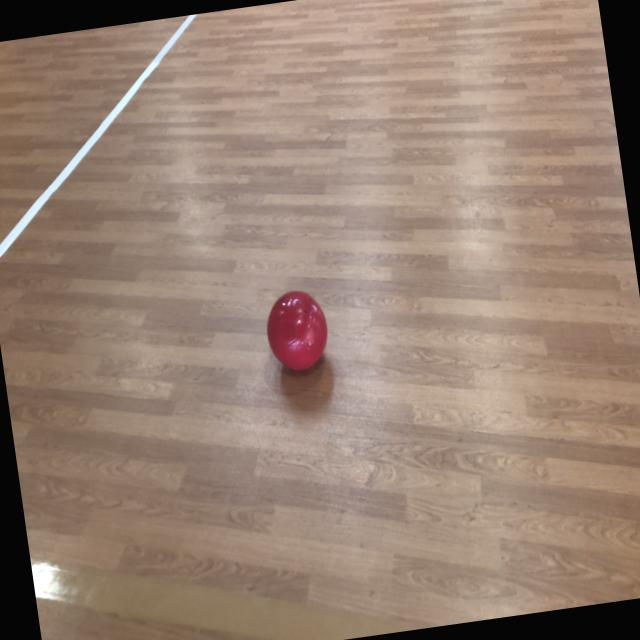red_ball: (263, 286, 333, 372)
